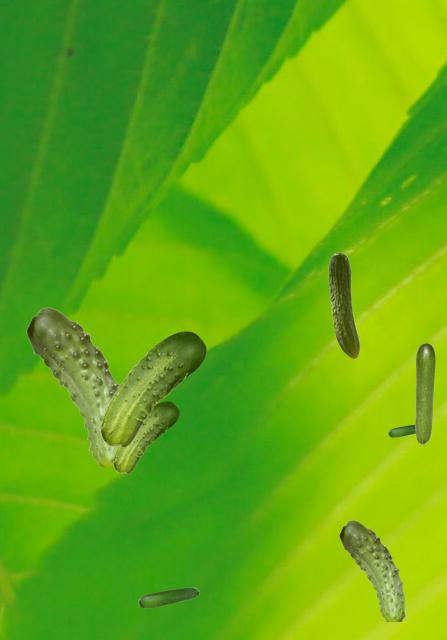cucumber: (26, 307, 118, 465), (100, 331, 205, 446), (339, 520, 405, 620), (113, 401, 178, 472), (328, 252, 359, 358), (415, 343, 434, 443), (138, 587, 198, 607), (388, 424, 414, 436)
